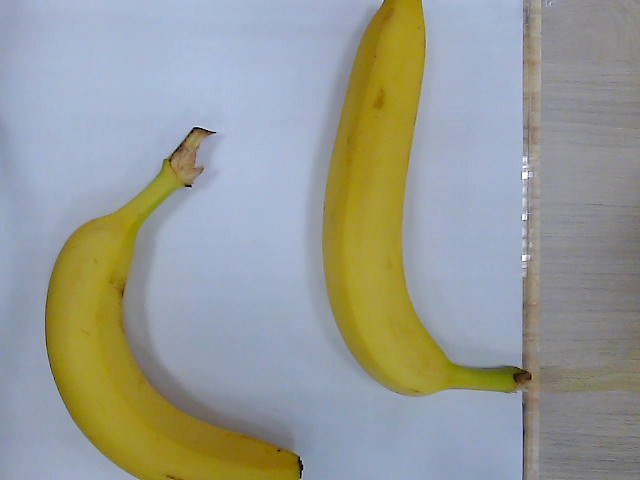fresh_banana: (44, 128, 303, 480), (320, 1, 532, 395)
